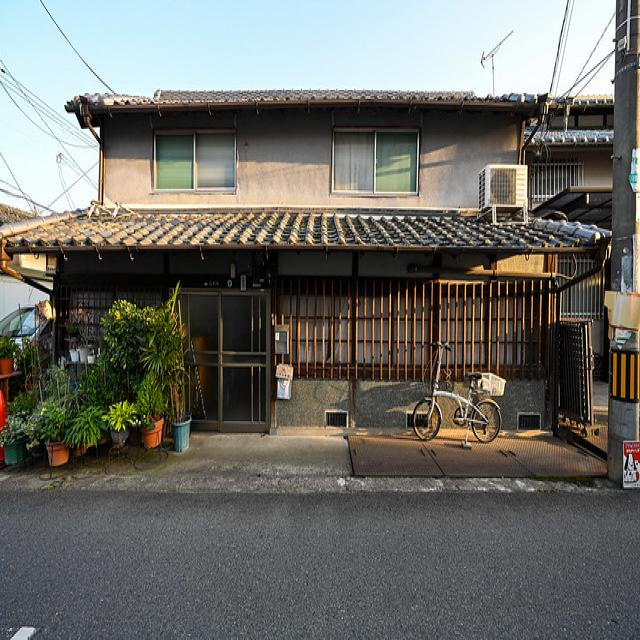building: (1, 80, 639, 450)
